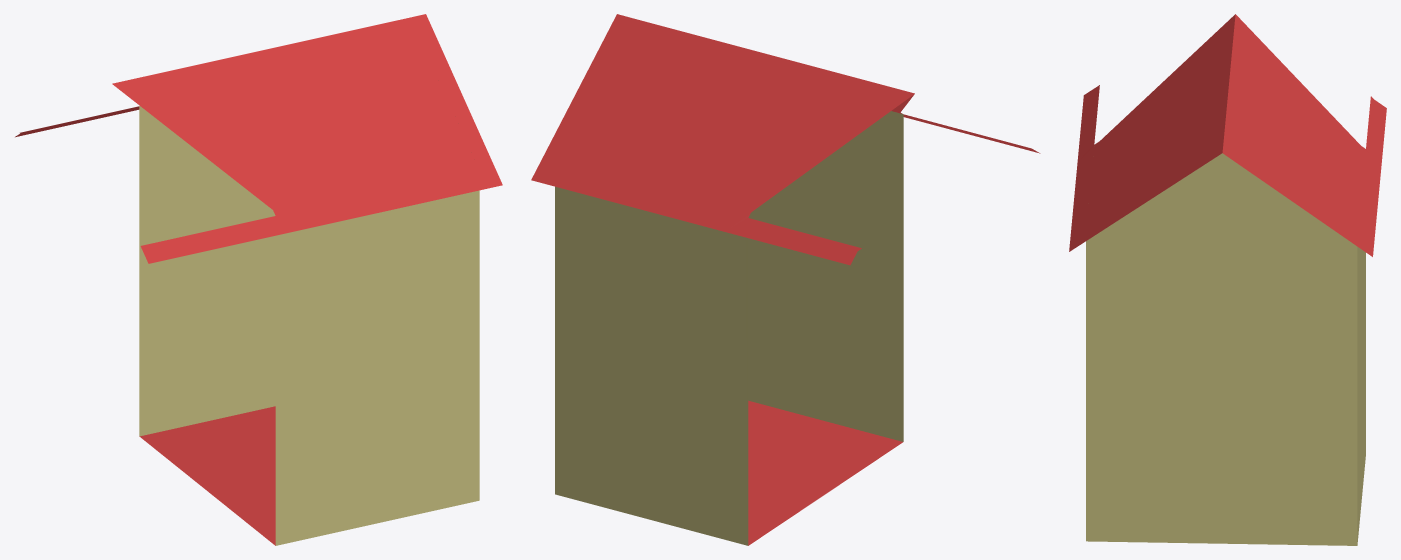
The picture shows the model from 3 angles, left to right: view 1: azimuth 30°, elevation 25°; view 2: azimuth 150°, elevation 25°; view 3: azimuth 270°, elevation 25°; orthographic projection. The views are drawn at different scales.
Size of the model in its own units: 11.89 by 9.86 by 13.6.
